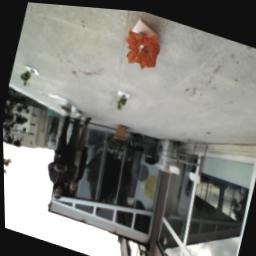herb: (19, 67, 35, 90), (115, 92, 129, 112)
wild: (119, 23, 166, 73)
